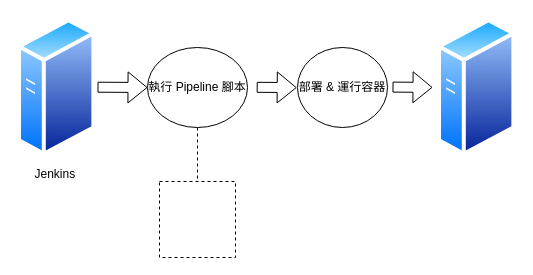
Some shapes in this 533 by 275 pixel diagram are drawn without their labels. The centre of each missing label's shape, as x and y in pixels:
機器位置 在腳本中: [197,219]
目標機器: [476,87]
